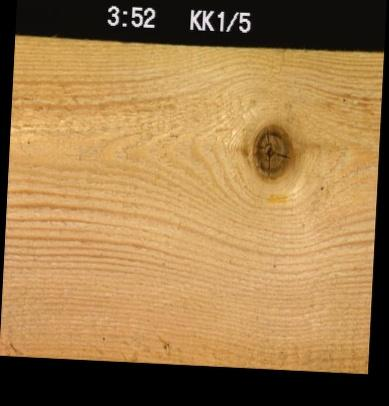sound_knot: (249, 121, 293, 181)
